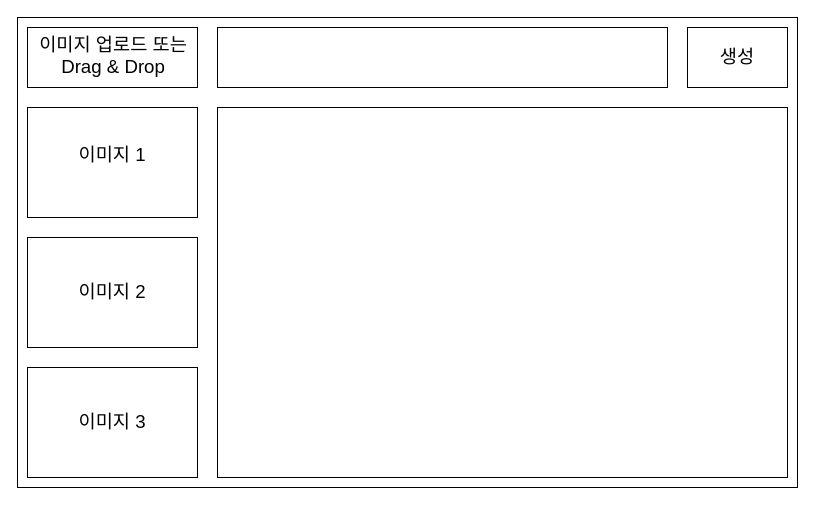
This 815x505 diagram has some shape labels left out. The shapes that lost their labels are listed below. From the top down, each one's centre as x and y in pixels, then its label:
At point 442,57: "프롬프트 (Text)".
At point 502,292: "이미지 편집".
